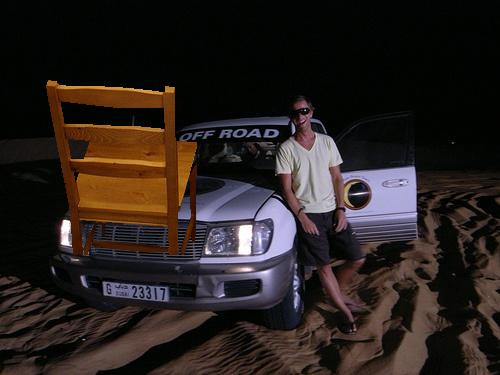tampered: (47, 81, 197, 255)
